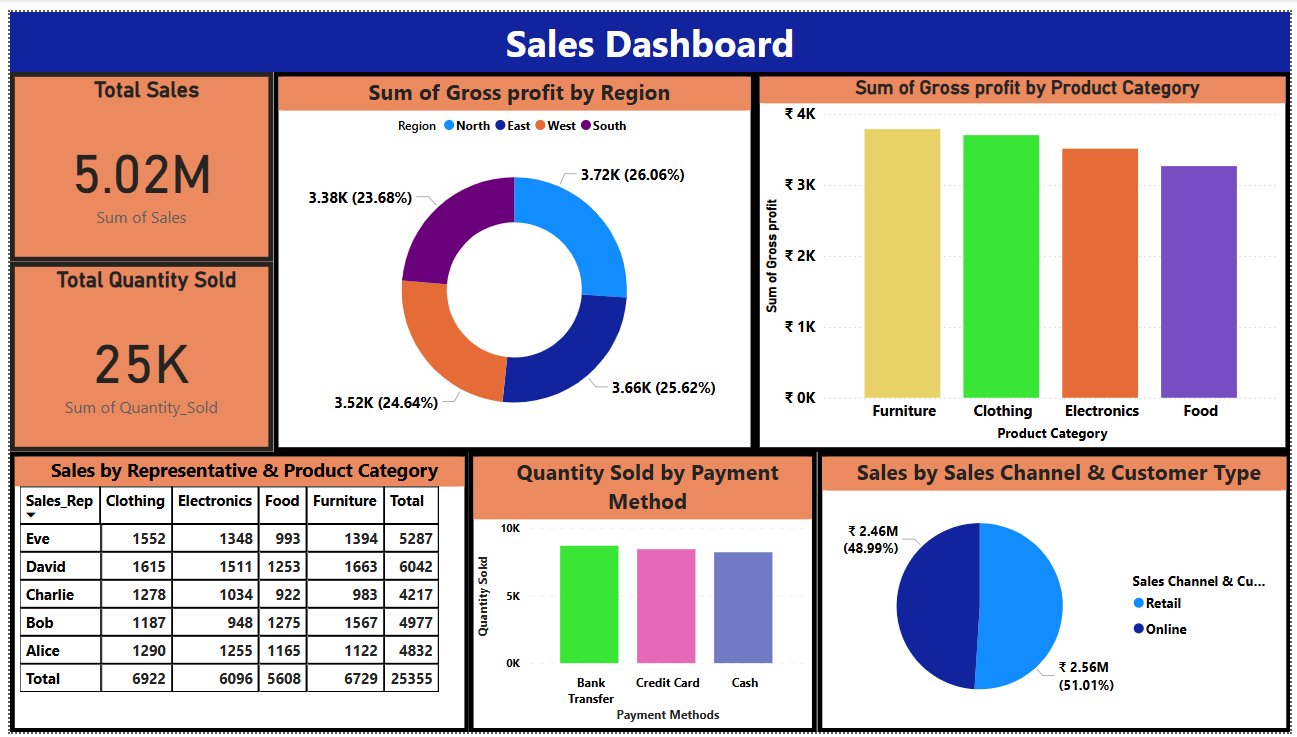

This screenshot's page, from the dashboard's own definition file:
{"tool":"powerbi","page":{"name":"Overall","canvas":[1280,720],"ordinal":0},"visuals":[{"type":"textbox","box":[0,0,1280.3,60.4],"z":0},{"type":"card","title":"Total Sales","fields":{"Values":["Sum(sales_data.Sales_Amount)"]},"box":[0,60.4,263.5,189.4],"z":1000},{"type":"card","title":"Total Quantity Sold","fields":{"Values":["Sum(sales_data.Quantity_Sold)"]},"box":[0,249.7,263.5,189.4],"z":2000},{"type":"donutChart","fields":{"Y":["Sum(sales_data.Gross profit)"],"Category":["sales_data.Region"]},"box":[263.3,60.4,481.9,379.8],"z":3000},{"type":"columnChart","title":"Sum of Gross profit by Product Category","fields":{"Y":["Sum(sales_data.Gross profit)"],"Category":["sales_data.Product_Category"]},"box":[745.2,60.4,535.1,379.8],"z":4000},{"type":"pivotTable","title":"Sales by Representative & Product Category","fields":{"Rows":["sales_data.Sales_Rep"],"Columns":["sales_data.Product_Category"],"Values":["Sum(sales_data.Quantity_Sold)"]},"box":[0,440.2,458.9,280.5],"z":5000},{"type":"columnChart","title":"Quantity Sold by Payment Method","fields":{"Category":["sales_data.Payment_Method"],"Y":["Sum(sales_data.Quantity_Sold)"]},"box":[458.9,440.2,348.1,280.5],"z":6000},{"type":"pieChart","title":"Sales by Sales Channel & Customer Type","fields":{"Category":["sales_data.Sales_Channel","sales_data.Customer_Type"],"Y":["Sum(sales_data.Sales)"]},"box":[807,440.2,473.3,280.5],"z":7000}]}

Visuals, with their boxes in screenshot pixels (x1, y1, x2, y2), scaled from the page's 1280x720 canvas onto the 1297x737 screenshot:
textbox: x1=0 y1=0 x2=1296 y2=62
"Total Sales" card: x1=0 y1=62 x2=267 y2=256
"Total Quantity Sold" card: x1=0 y1=256 x2=267 y2=449
donutChart - Sum(sales_data.Gross profit) x sales_data.Region: x1=267 y1=62 x2=755 y2=451
"Sum of Gross profit by Product Category" columnChart: x1=755 y1=62 x2=1296 y2=451
"Sales by Representative & Product Category" pivotTable: x1=0 y1=451 x2=465 y2=736
"Quantity Sold by Payment Method" columnChart: x1=465 y1=451 x2=818 y2=736
"Sales by Sales Channel & Customer Type" pieChart: x1=818 y1=451 x2=1296 y2=736
